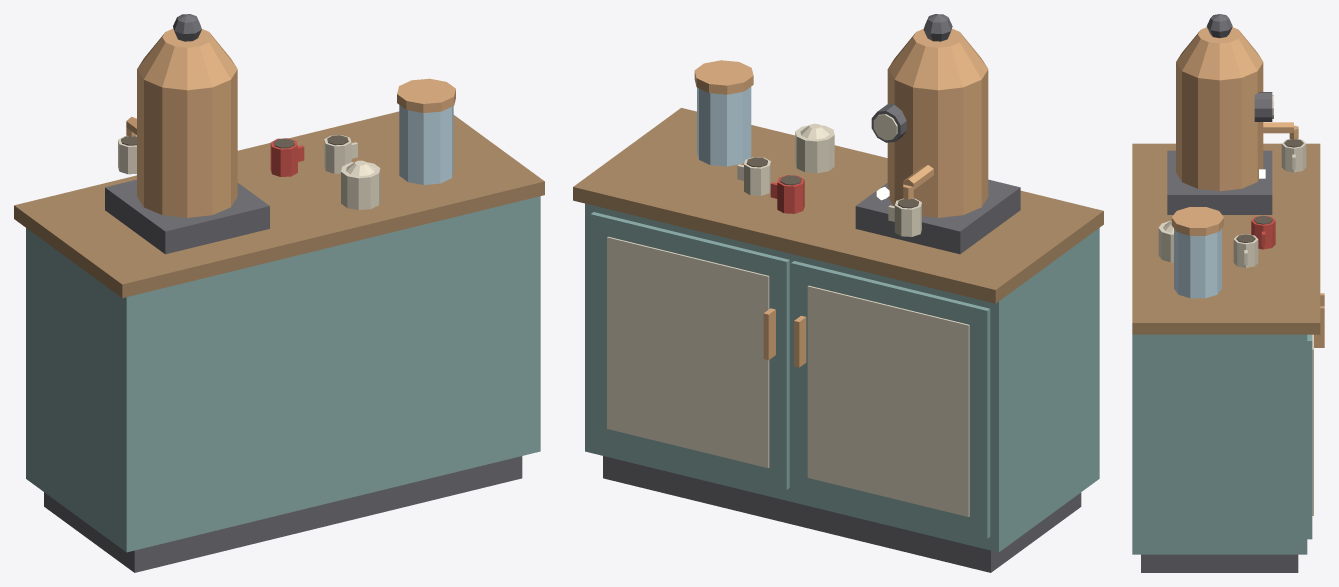
Rendered from coffee_corner.glb.
The picture shows the model from 3 angles, left to right: view 1: azimuth 30°, elevation 25°; view 2: azimuth 150°, elevation 25°; view 3: azimuth 270°, elevation 25°; orthographic projection. The views are drawn at different scales.
Visible parts, largest first — view 1: CoffeeCorner; view 2: CoffeeCorner; view 3: CoffeeCorner.
Boxes of the visible parts, left/top/right/bottom form: CoffeeCorner: left=14, top=14, right=544, bottom=572; CoffeeCorner: left=573, top=14, right=1103, bottom=572; CoffeeCorner: left=1132, top=14, right=1324, bottom=572.
Bounding box in the file's own units: 0.97 × 1.1 × 0.44.
